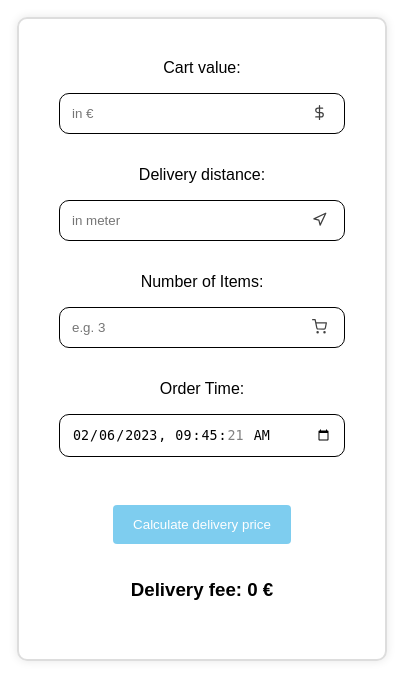
Test: DeliveryFeeCalculator › calculates the delivery fee
This screenshot has width=405, height=679.
Expected: the heading with test id "fee" reads "Delivery fee: 0 €", x1=131 y1=579 x2=273 y2=601
Note: Enter some values into the inputs
In the number field labelled "Cart value:": (202, 113) x1=59 y1=93 x2=345 y2=134, type "12"
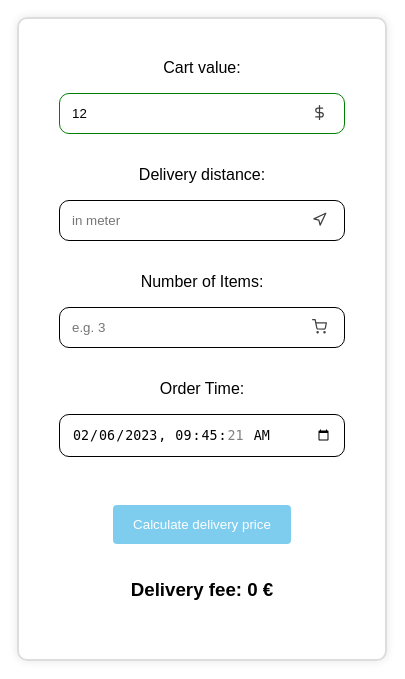
In the number field labelled "Delivery distance:": (202, 220) x1=59 y1=200 x2=345 y2=241, type "2000"
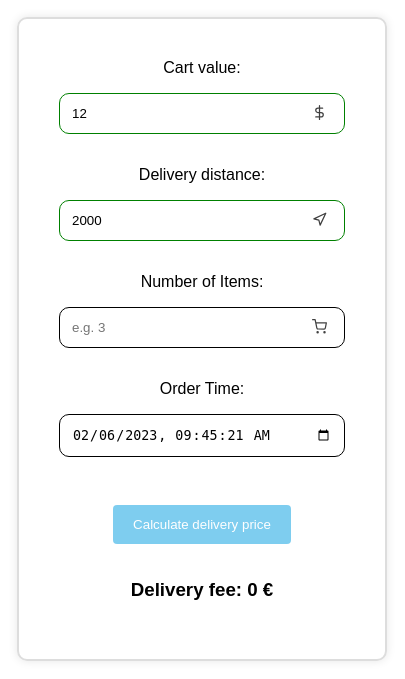
In the number field labelled "Number of Items:": (202, 327) x1=59 y1=307 x2=345 y2=348, type "6"
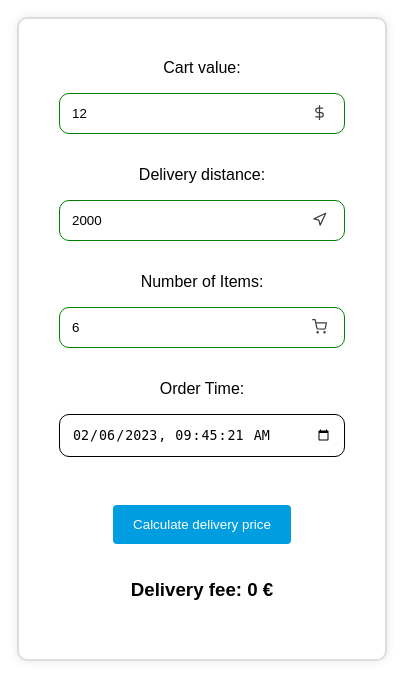
Replace the text in the field labelled "Order Time:" with "2023-03-27T15:00:00": (202, 435) x1=59 y1=414 x2=345 y2=457
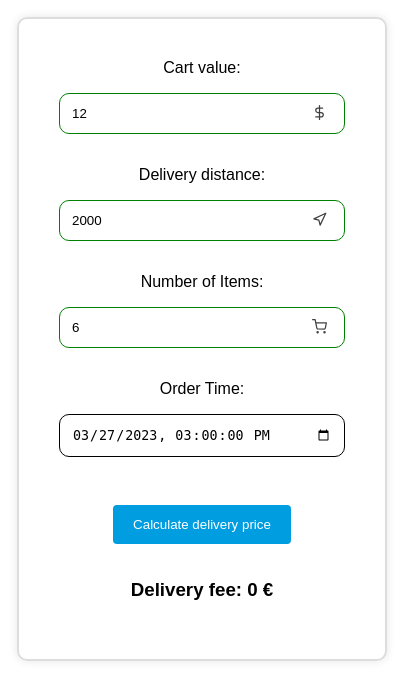
Note: Click the button to calculate the fee
Click the button "Calculate delivery price": (202, 524) x1=113 y1=505 x2=291 y2=544
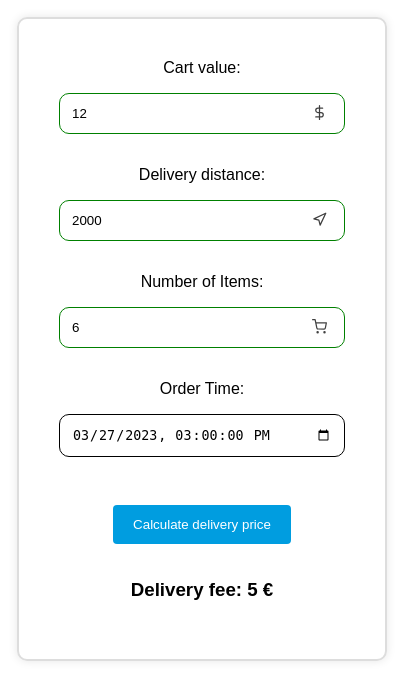
Expected: the heading with test id "fee" reads "Delivery fee: 5 €", x1=131 y1=579 x2=273 y2=601
